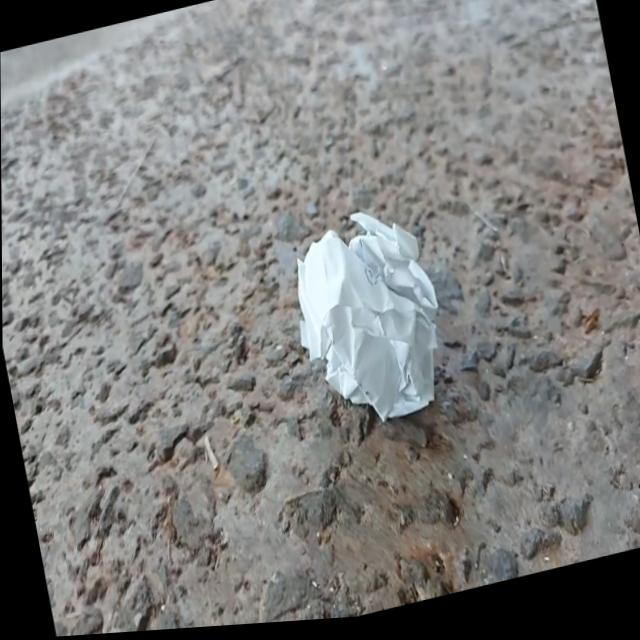paper: (298, 212, 437, 419)
